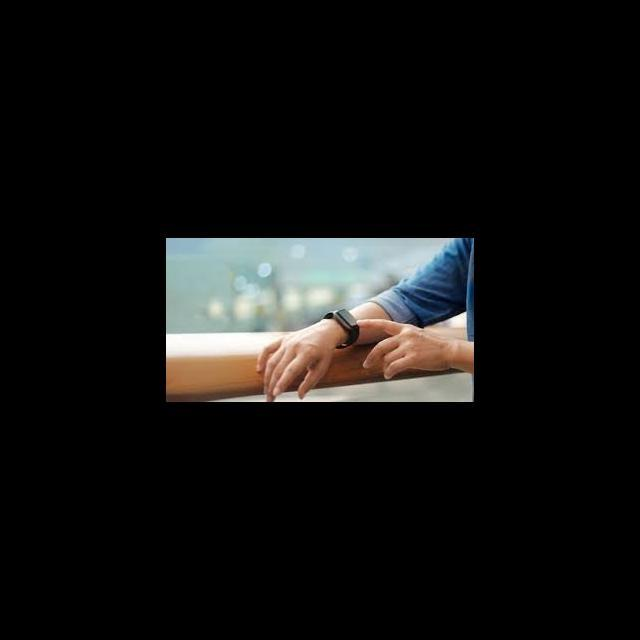watch: (317, 290, 393, 385)
